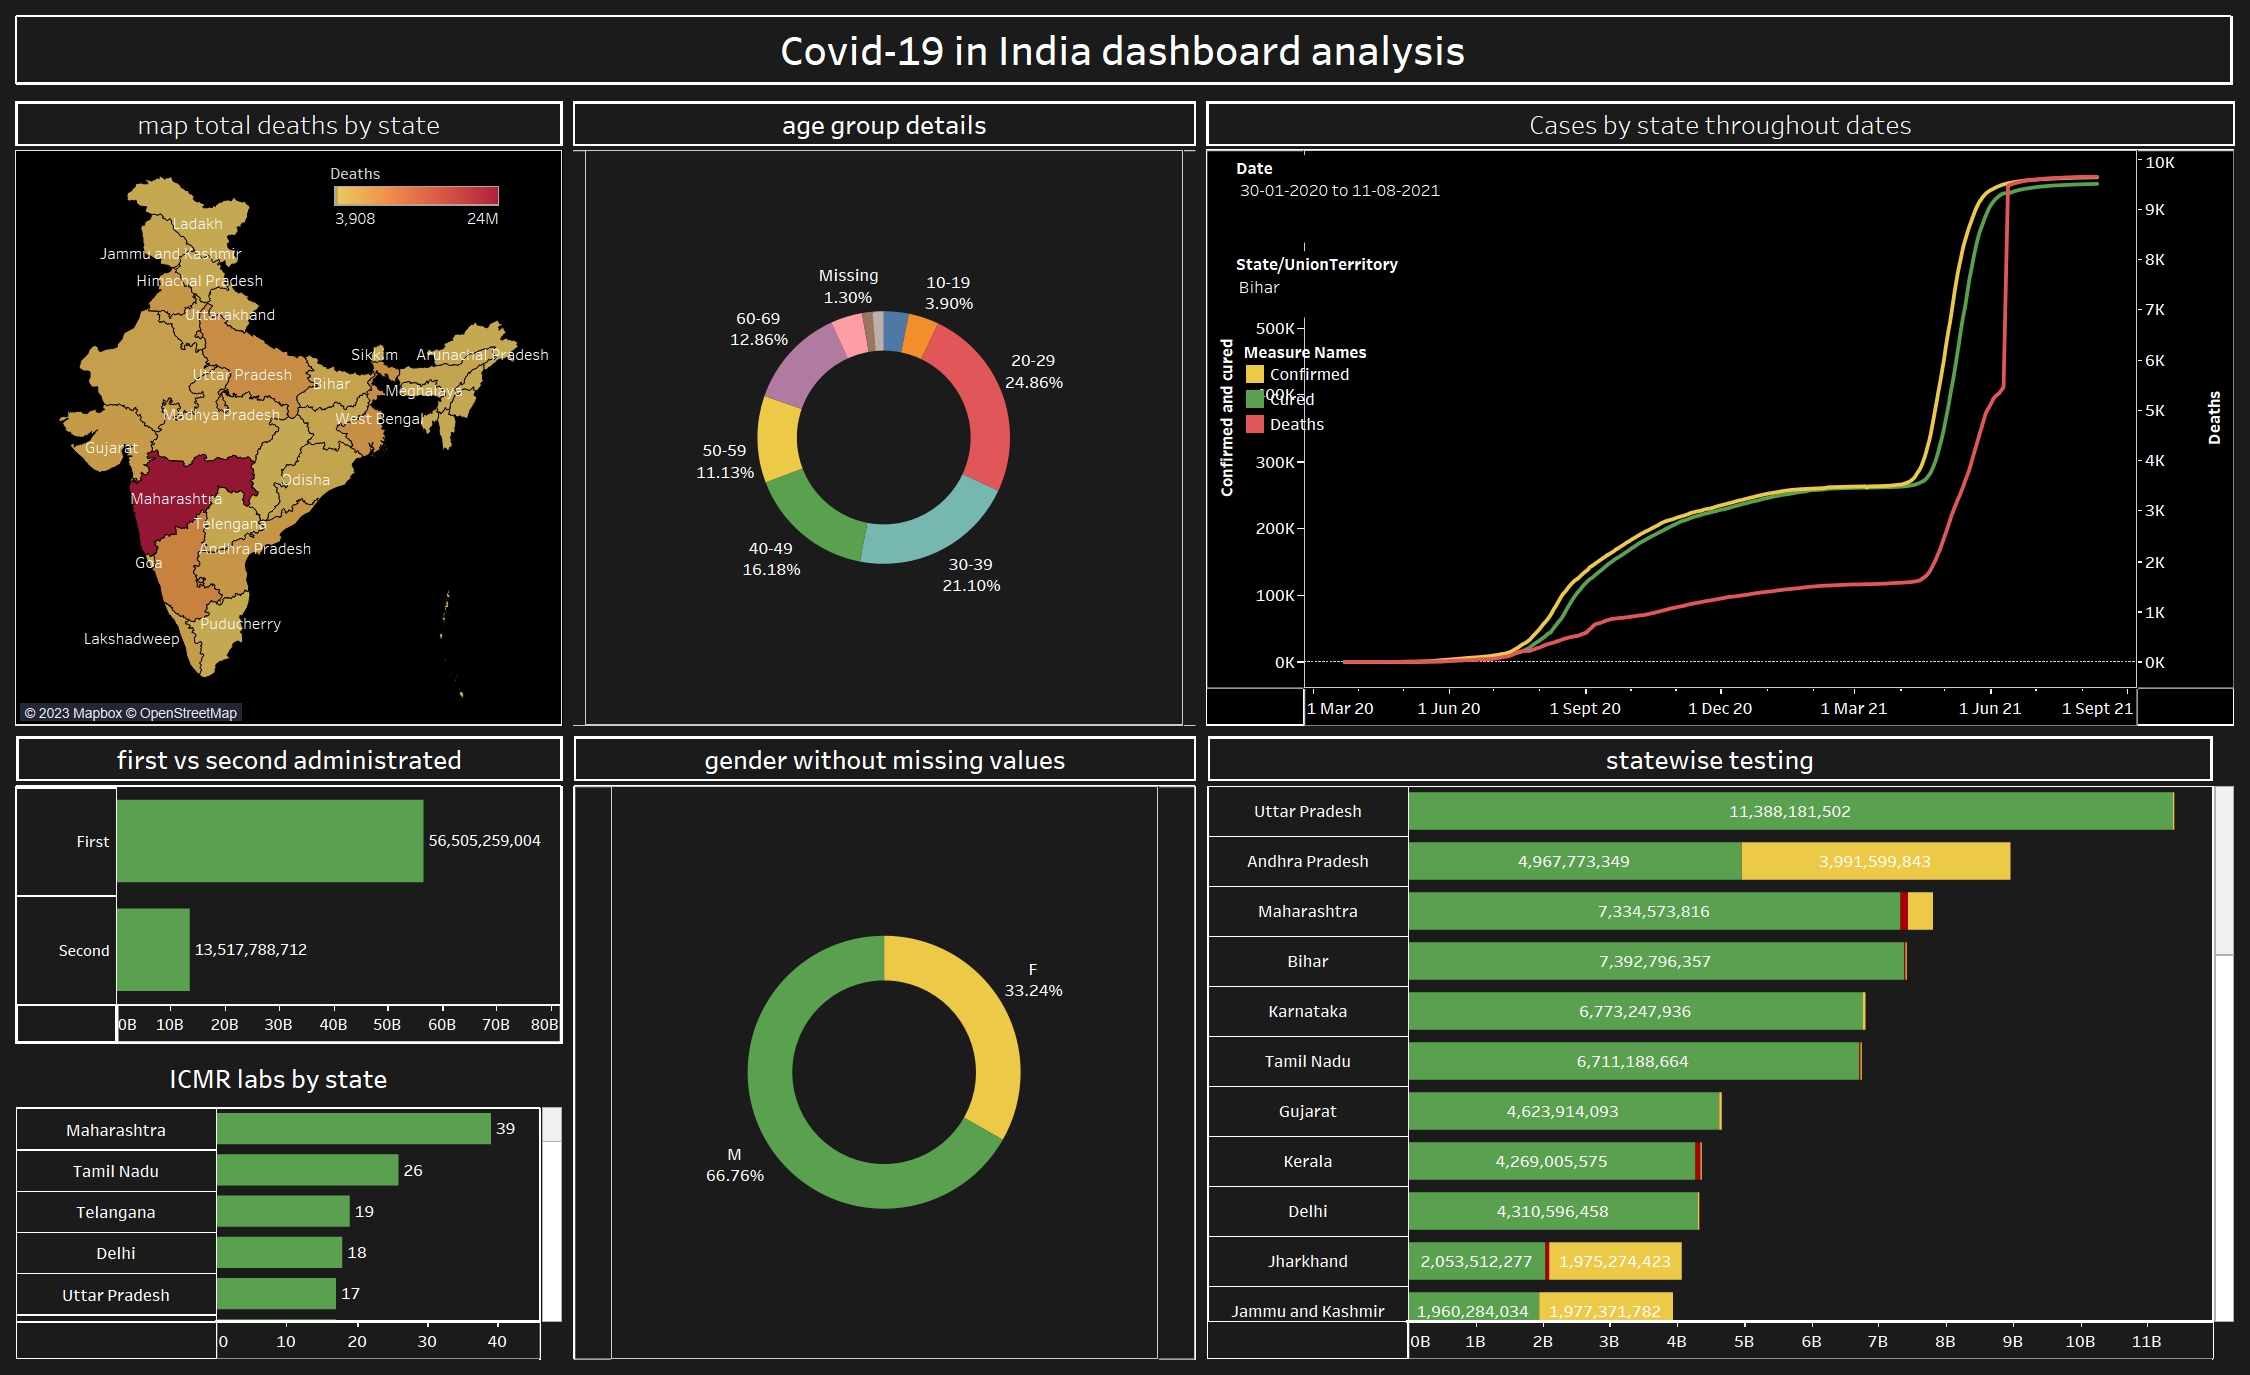

The page's visual inventory and layout, read from the dashboard file:
{"tool":"tableau","page":{"name":"Dashboard 1","canvas":[1800,1100],"ordinal":0},"visuals":[{"type":"worksheet","title":"title","mark":"Automatic","box":[8,8,1784,69]},{"type":"worksheet","title":"map total deaths by state","mark":"Automatic","box":[8,77,446,507.5]},{"type":"worksheet","title":"age group details","mark":"Pie","rows":["Calculation_602356461197996033","Calculation_602356461198008323"],"box":[454,77,507,507.5]},{"type":"worksheet","title":"Cases by state throughout dates","mark":"Line","rows":["Deaths"],"cols":["Date"],"box":[961,77,831,507.5]},{"type":"filter","title":"Cases by state throughout dates","param":"[federated.1dkiuqm0g64l0018adu7505ektrn].[none:Date:qk]","box":[989,124,168,70]},{"type":"legend","title":"map total deaths by state","param":"[federated.1dkiuqm0g64l0018adu7505ektrn].[sum:Deaths:qk]","box":[264,126,140,76]},{"type":"filter","title":"Cases by state throughout dates","param":"[federated.1dkiuqm0g64l0018adu7505ektrn].[none:State/UnionTerritory:nk]","box":[989,201,168,53]},{"type":"legend","title":"Cases by state throughout dates","param":"[federated.1dkiuqm0g64l0018adu7505ektrn].[:Measure Names]","box":[990,266,160,87]},{"type":"worksheet","title":"first vs second administrated","mark":"Automatic","box":[8,584.5,446,253.7]},{"type":"worksheet","title":"gender without missing values","mark":"Pie","rows":["Calculation_602356461200224262","Calculation_602356461200236552"],"box":[454,584.5,507,507.5]},{"type":"worksheet","title":"statewise testing","mark":"Automatic","rows":["State"],"box":[961,584.5,831,507.5]},{"type":"worksheet","title":"ICMR labs by state","mark":"Automatic","rows":["state"],"cols":["ICMRTestingLabs.csv_C52FDC2929B34A5085F24C575EC8E75B"],"box":[8,838.3,446,253.7]}]}

Visuals, with their boxes in screenshot pixels (x1, y1, x2, y2), scaled from the page's 1800x1100 canvas onto the 2250x1375 screenshot:
"title" worksheet: detection(10, 10, 2240, 96)
"map total deaths by state" worksheet: detection(10, 96, 568, 731)
"age group details" worksheet (Pie marks): detection(568, 96, 1201, 731)
"Cases by state throughout dates" worksheet (Line marks): detection(1201, 96, 2240, 731)
"Cases by state throughout dates" filter: detection(1236, 155, 1446, 242)
"map total deaths by state" legend: detection(330, 158, 505, 252)
"Cases by state throughout dates" filter: detection(1236, 251, 1446, 318)
"Cases by state throughout dates" legend: detection(1238, 332, 1438, 441)
"first vs second administrated" worksheet: detection(10, 731, 568, 1048)
"gender without missing values" worksheet (Pie marks): detection(568, 731, 1201, 1365)
"statewise testing" worksheet: detection(1201, 731, 2240, 1365)
"ICMR labs by state" worksheet: detection(10, 1048, 568, 1365)
